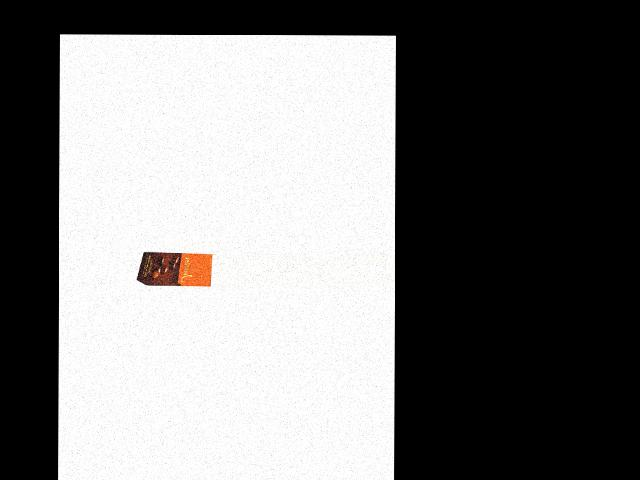chocolate: (137, 247, 211, 288)
